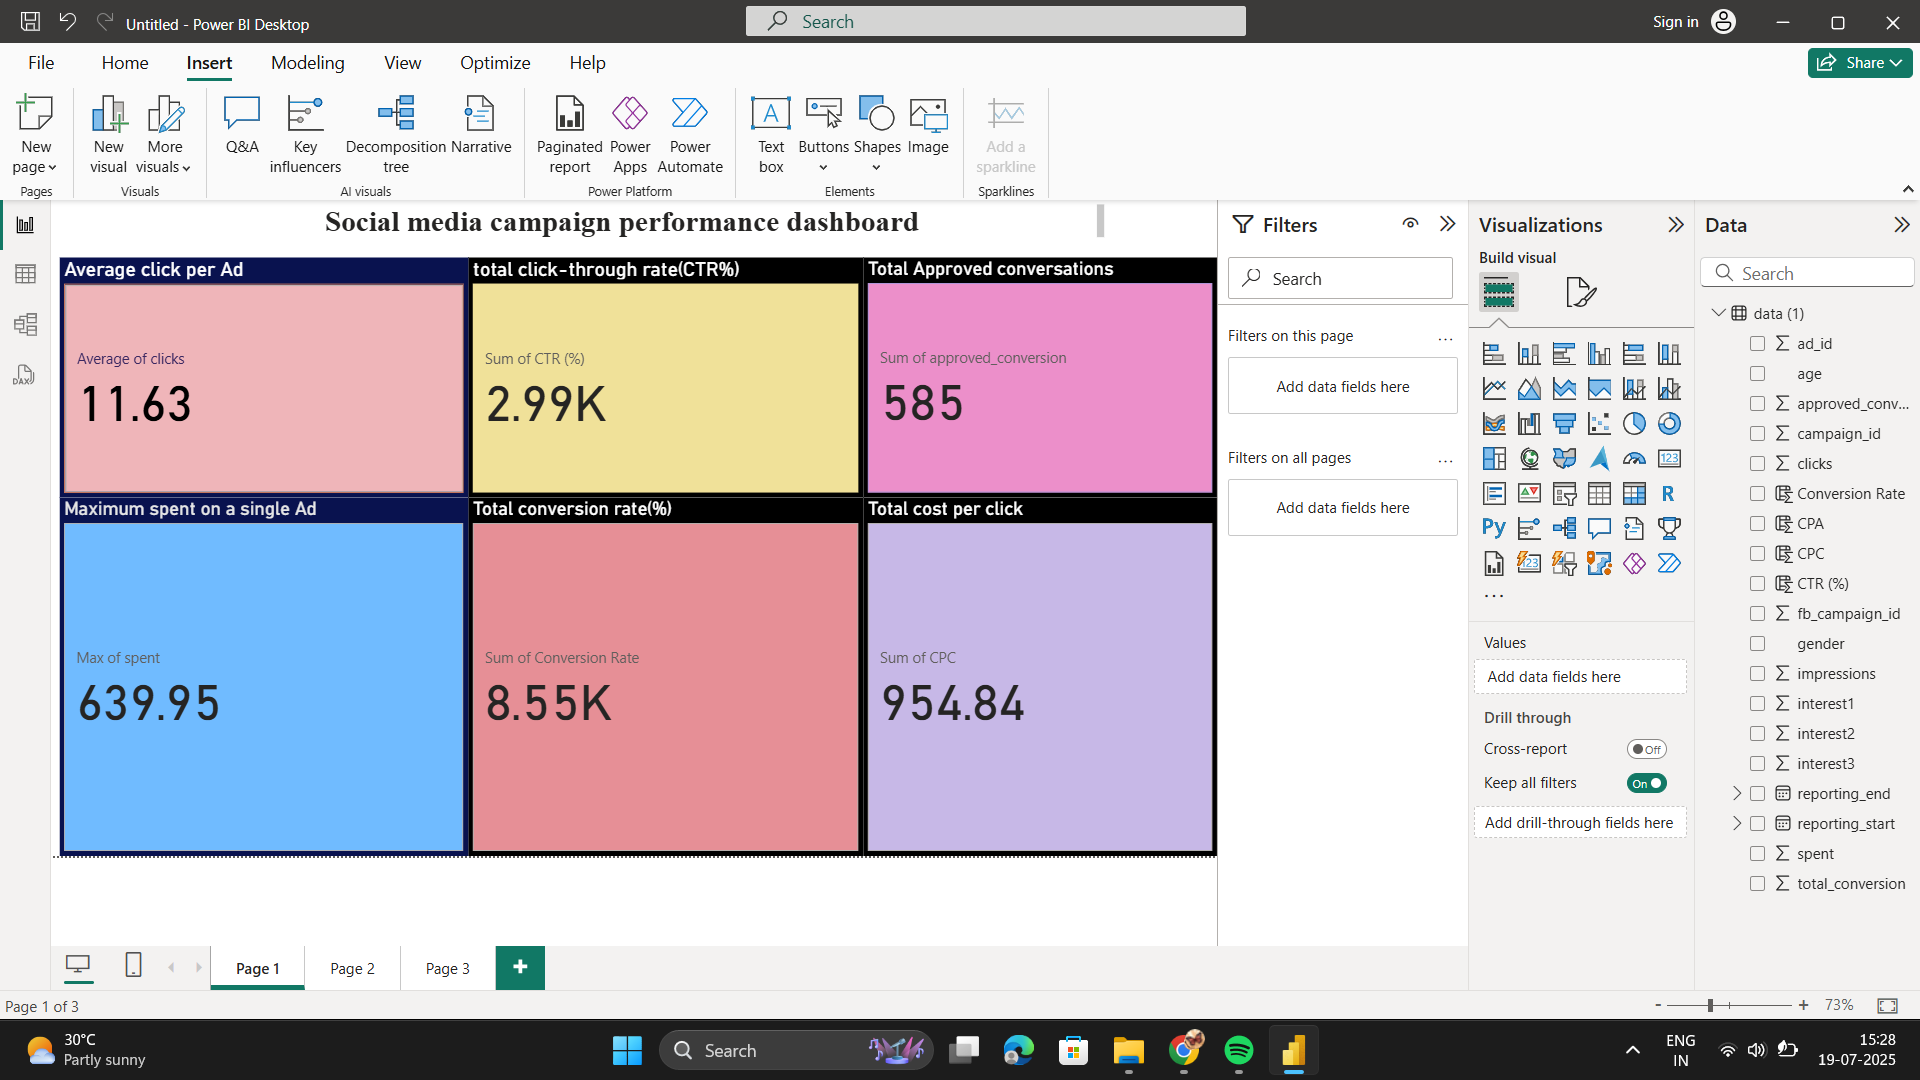

The dashboard page shown, as its layout file describes it:
{"tool":"powerbi","page":{"name":"Page 1","canvas":[1280,720],"ordinal":0},"visuals":[{"type":"cardVisual","title":"Average click per Ad","fields":{"Data":["Avg(data (1).clicks)"]},"box":[9.6,63.1,448.7,263.5],"z":0},{"type":"cardVisual","title":"Maximum spent on a single Ad","fields":{"Data":["Max(data (1).spent)"]},"box":[9.6,326.6,448.7,393.8],"z":1000},{"type":"cardVisual","title":"total click-through rate(CTR%)","fields":{"Data":["Sum(data (1).CTR (%))"]},"box":[458.3,63.1,433.6,263.5],"z":2000},{"type":"cardVisual","title":"Total conversion rate(%)","fields":{"Data":["Sum(data (1).Conversion Rate)"]},"box":[458.3,326.6,433.6,393.8],"z":3000},{"type":"cardVisual","title":"Total Approved conversations","fields":{"Data":["Sum(data (1).approved_conversion)"]},"box":[891.9,63.1,388.3,263.5],"z":4000},{"type":"cardVisual","title":"Total cost per click","fields":{"Data":["Sum(data (1).CPC)"]},"box":[891.9,326.6,388.3,393.8],"z":5000},{"type":"textbox","box":[100.2,0,1060.7,46.7],"z":5001}]}

Visuals, with their boxes on the page's 1280x720 design canvas (x1, y1, x2, y2). These are canvas units, not pixel positions in the 1920x1080 screenshot, which may show the page scaled, cropped or inside an application window:
"Average click per Ad" cardVisual: (left=10, top=63, right=458, bottom=327)
"Maximum spent on a single Ad" cardVisual: (left=10, top=327, right=458, bottom=720)
"total click-through rate(CTR%)" cardVisual: (left=458, top=63, right=892, bottom=327)
"Total conversion rate(%)" cardVisual: (left=458, top=327, right=892, bottom=720)
"Total Approved conversations" cardVisual: (left=892, top=63, right=1280, bottom=327)
"Total cost per click" cardVisual: (left=892, top=327, right=1280, bottom=720)
textbox: (left=100, top=0, right=1161, bottom=47)
